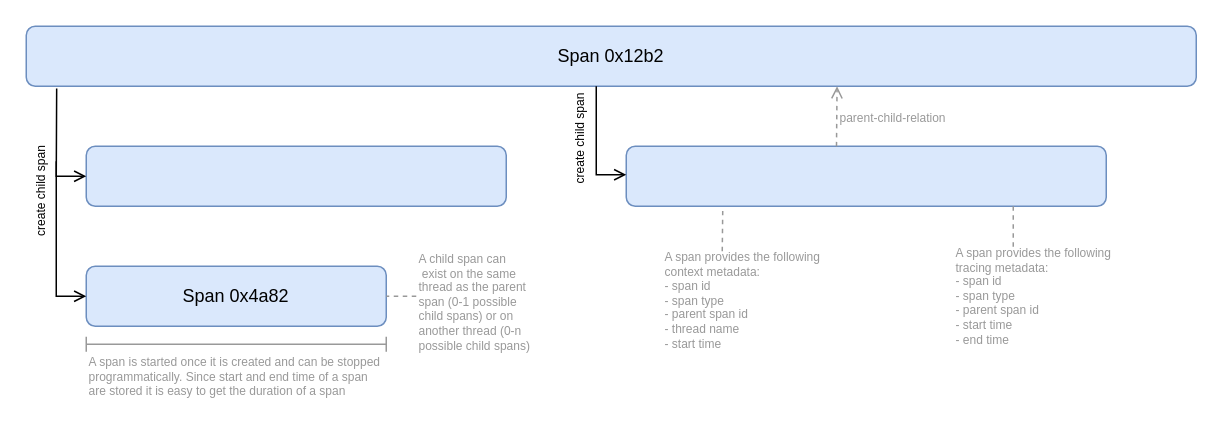
This 1223x428 diagram has some shape labels left out. The centre of each missing label's shape, as x and y in pixels:
Span 0x1ee4: (x=295, y=175)
Span 0xcc3d: (x=865, y=175)
